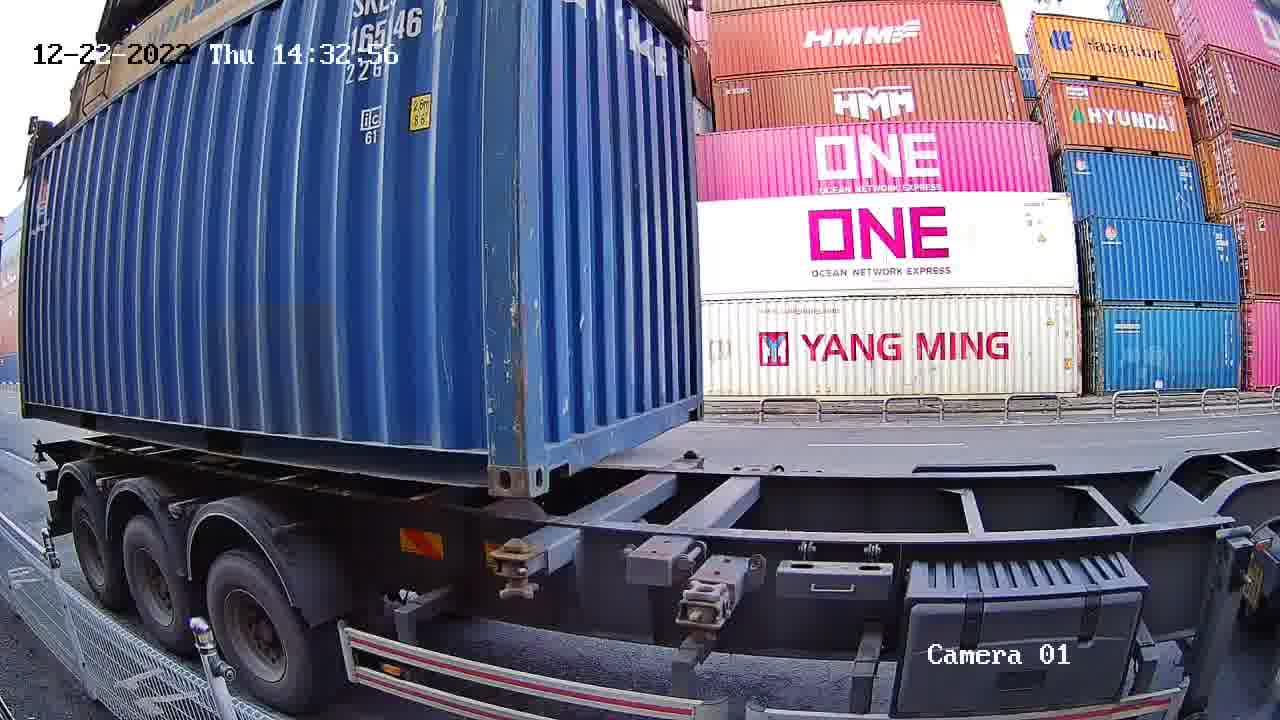Chassis: (497, 452, 707, 573)
Cone: (495, 536, 547, 604)
Hole_L: (523, 414, 584, 497)
Hole_R: (449, 425, 528, 501), (670, 384, 706, 425)
Tire: (205, 558, 309, 702), (123, 525, 193, 644), (70, 501, 115, 599)
